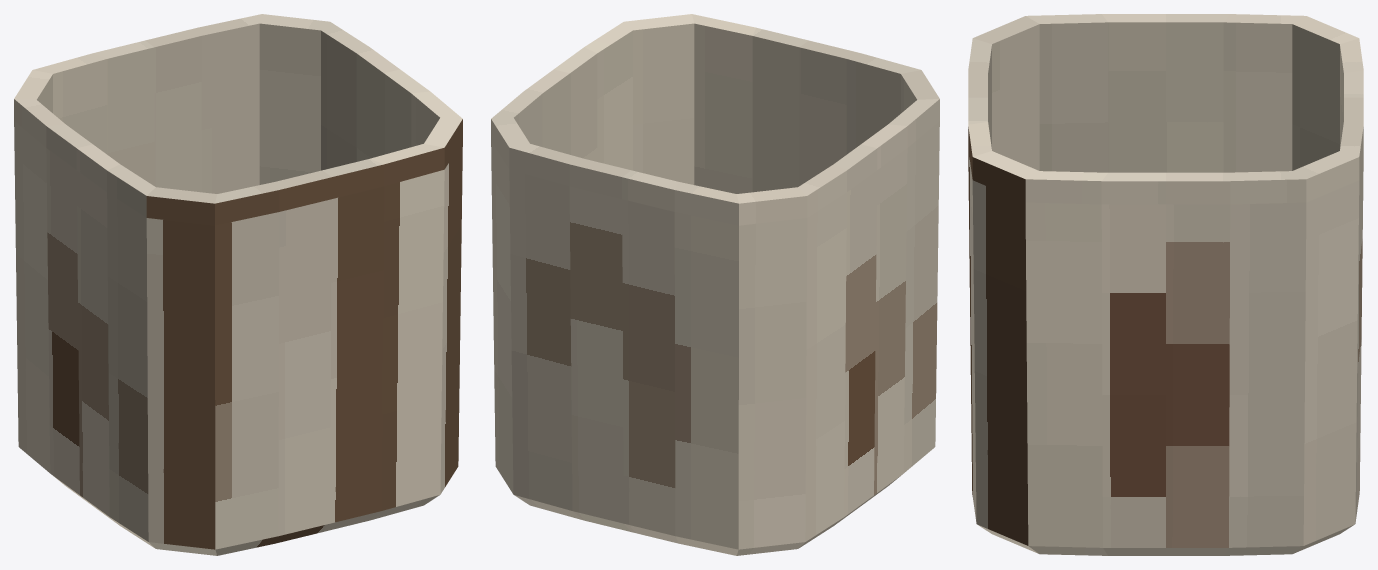
Rendered from antique-shino-square.glb.
The picture shows the model from 3 angles, left to right: view 1: azimuth 30°, elevation 25°; view 2: azimuth 150°, elevation 25°; view 3: azimuth 270°, elevation 25°; orthographic projection. The views are drawn at different scales.
Parts seen in each view (by area): view 1: antique-shino-square/ceramic-outer-wall-2, antique-shino-square/ceramic-inner-wall-5, antique-shino-square/ceramic-rim-4, antique-shino-square/ceramic-outer-lip-3, antique-shino-square/ceramic-outer-lower-1; view 2: antique-shino-square/ceramic-outer-wall-2, antique-shino-square/ceramic-inner-wall-5, antique-shino-square/ceramic-rim-4, antique-shino-square/ceramic-outer-lip-3, antique-shino-square/ceramic-outer-lower-1; view 3: antique-shino-square/ceramic-outer-wall-2, antique-shino-square/ceramic-inner-wall-5, antique-shino-square/ceramic-rim-4, antique-shino-square/ceramic-outer-lip-3, antique-shino-square/ceramic-outer-lower-1.
Part boxes in pixels (box(x1,y1,x2,y2)): antique-shino-square/ceramic-outer-wall-2: box(14, 121, 462, 549); antique-shino-square/ceramic-inner-wall-5: box(37, 23, 439, 193); antique-shino-square/ceramic-rim-4: box(14, 14, 462, 203); antique-shino-square/ceramic-outer-lip-3: box(14, 99, 462, 225); antique-shino-square/ceramic-outer-lower-1: box(53, 476, 439, 555); antique-shino-square/ceramic-outer-wall-2: box(491, 121, 939, 549); antique-shino-square/ceramic-inner-wall-5: box(514, 23, 916, 193); antique-shino-square/ceramic-rim-4: box(491, 14, 939, 203); antique-shino-square/ceramic-outer-lip-3: box(491, 99, 939, 225); antique-shino-square/ceramic-outer-lower-1: box(514, 476, 900, 555); antique-shino-square/ceramic-outer-wall-2: box(968, 150, 1363, 547); antique-shino-square/ceramic-inner-wall-5: box(988, 22, 1343, 172); antique-shino-square/ceramic-rim-4: box(968, 14, 1363, 181); antique-shino-square/ceramic-outer-lip-3: box(968, 127, 1363, 204); antique-shino-square/ceramic-outer-lower-1: box(977, 524, 1354, 555).
Size of the model in its own units: 0.4375 by 0.4735 by 0.4375.
4 materials, 4 textured.
